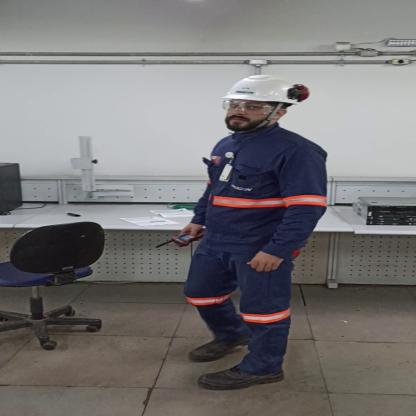Capacete: (217, 73, 309, 106)
